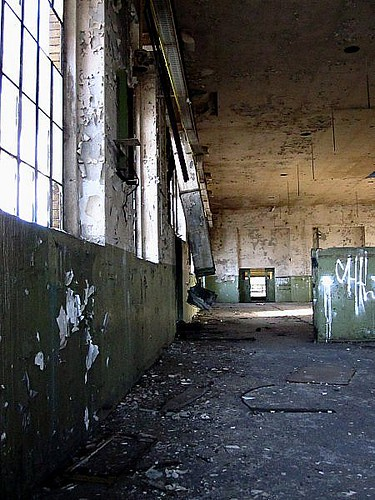graffiti: (316, 258, 373, 329)
window: (1, 1, 105, 253)
